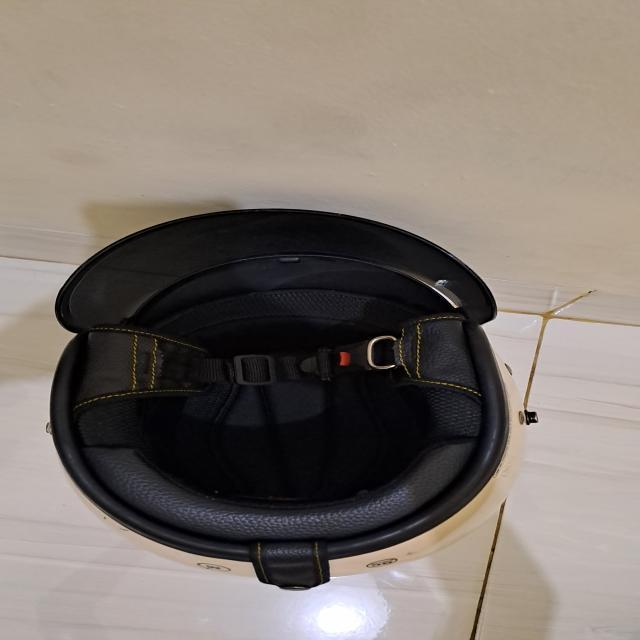Helm: (35, 198, 539, 608)
